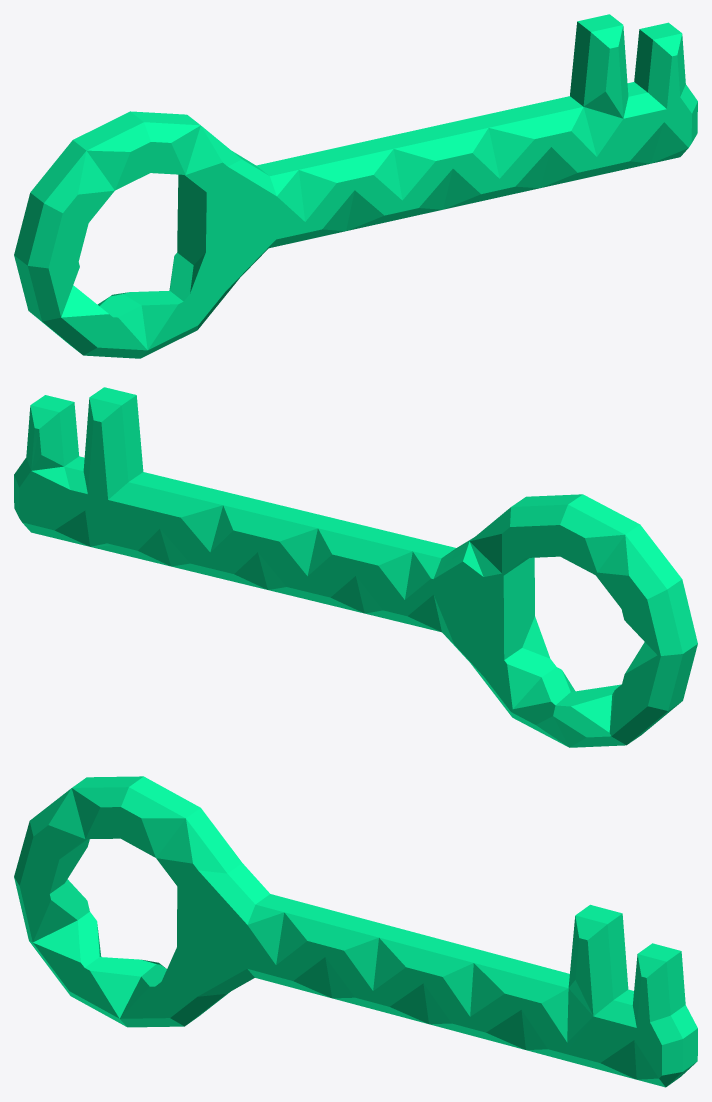
File: green.glb
3 renders of one model, top to bottom at view 1: azimuth 30°, elevation 25°; view 2: azimuth 150°, elevation 25°; view 3: azimuth 330°, elevation 25°, orthographic. The views are drawn at different scales.
Parts seen in each view (by area): view 1: Circle.026; view 2: Circle.026; view 3: Circle.026.
Part boxes in pixels (box(x1,y1,x2,y2)): Circle.026: box(14, 14, 697, 358); Circle.026: box(14, 387, 697, 747); Circle.026: box(14, 776, 697, 1087).
Bounding box in the file's own units: 1.89 × 0.6459 × 0.2153.
1 material, 1 textured.
